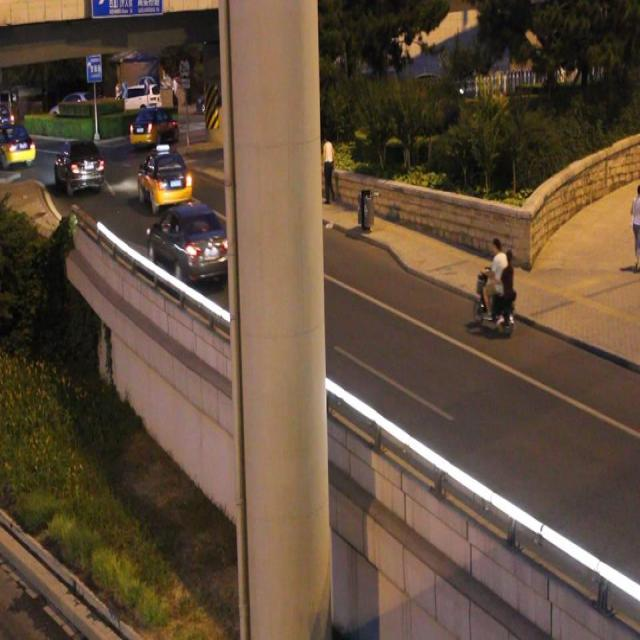car: (149, 207, 231, 280), (139, 150, 192, 207), (56, 143, 104, 190), (131, 110, 178, 142)
